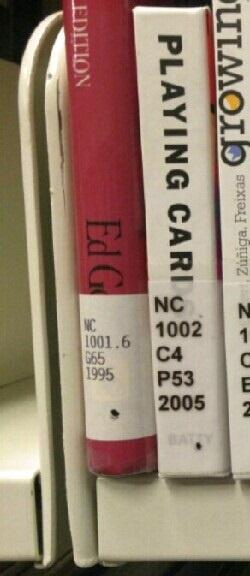call_number: (150, 283, 221, 439), (76, 294, 147, 437)
